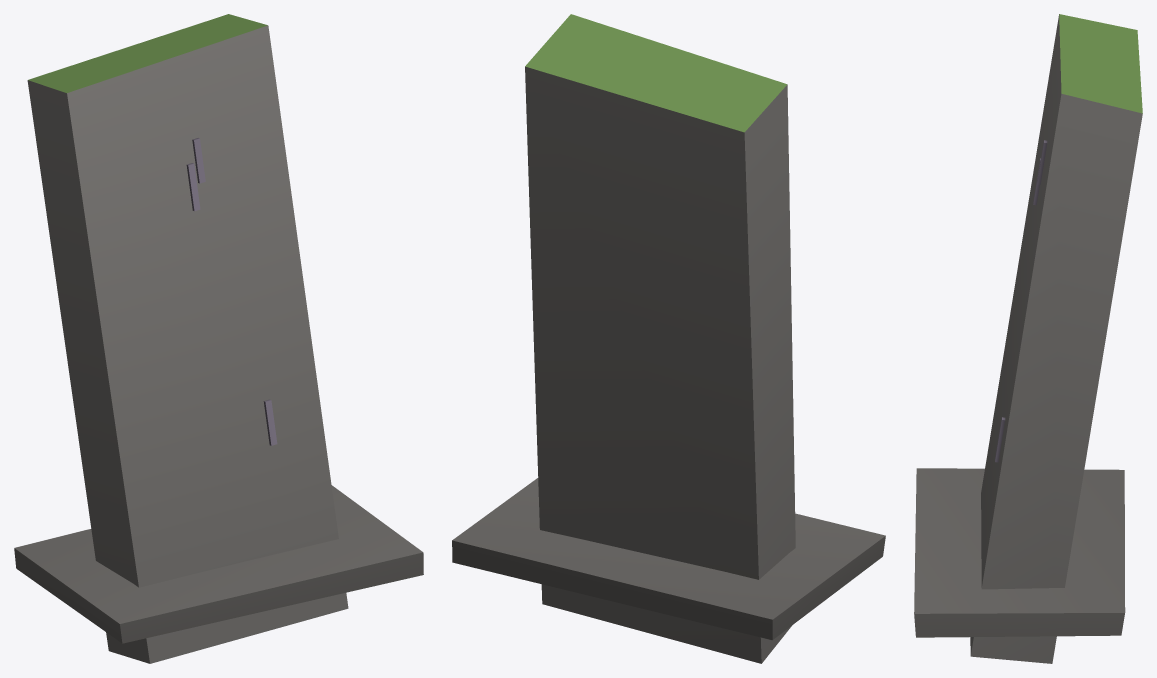
File: obj_monolito_3.glb
3 renders of one model, left to right at view 1: azimuth 30°, elevation 25°; view 2: azimuth 150°, elevation 25°; view 3: azimuth 270°, elevation 25°, orthographic. The views are drawn at different scales.
Parts seen in each view (by area): view 1: propforge-libre-monolito; view 2: propforge-libre-monolito; view 3: propforge-libre-monolito.
Boxes of the visible parts, box(x1,y1,x2,y2) form: propforge-libre-monolito: box(14, 14, 423, 663); propforge-libre-monolito: box(452, 14, 885, 663); propforge-libre-monolito: box(914, 14, 1142, 663).
Bounding box in the file's own units: 0.6133 × 1.11 × 0.4081.
